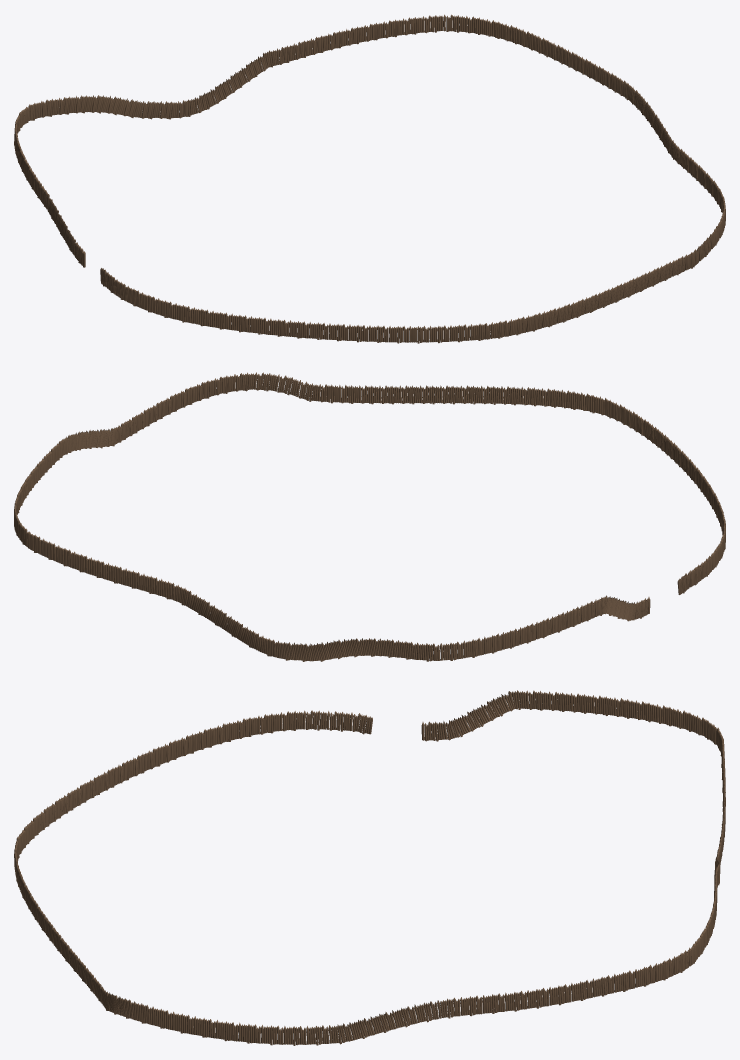
3 views of the same model, one above another, from view 1: azimuth 30°, elevation 25°; view 2: azimuth 150°, elevation 25°; view 3: azimuth 270°, elevation 25° (orthographic). The views are drawn at different scales.
Parts seen in each view (by area): view 1: Cylinder.022; view 2: Cylinder.022; view 3: Cylinder.022.
Part boxes in pixels (x1,y1,x2,y2): Cylinder.022: (14, 14, 725, 343); Cylinder.022: (14, 372, 725, 661); Cylinder.022: (14, 690, 725, 1045).
Size of the model in its own units: 15900 by 1664 by 15344.
